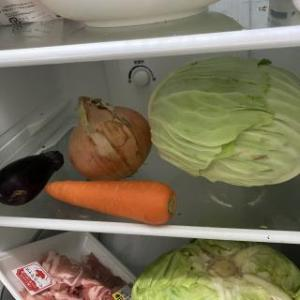cabbage: (144, 54, 300, 190), (129, 236, 300, 300)
eggplant: (42, 180, 178, 228), (1, 149, 65, 208)
onion: (67, 94, 151, 184)
